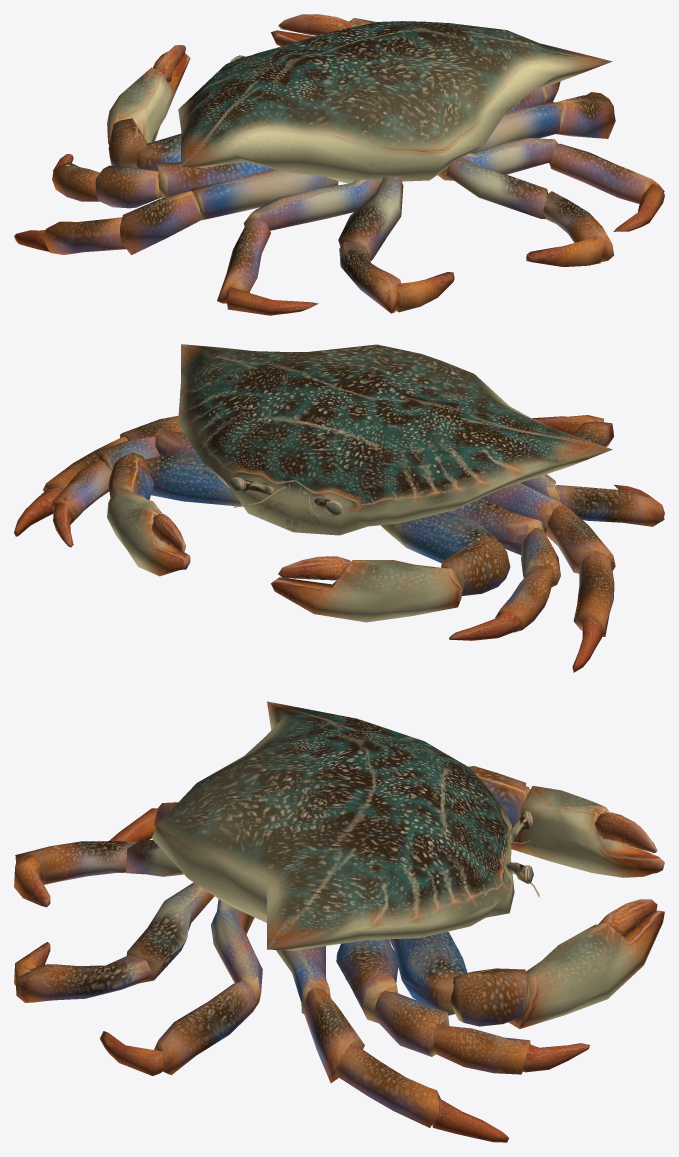
Rendered from crab.glb.
3 views of the same model, one above another, from view 1: azimuth 30°, elevation 25°; view 2: azimuth 150°, elevation 25°; view 3: azimuth 270°, elevation 25° (orthographic). The views are drawn at different scales.
Visible parts, largest first — view 1: reduced; view 2: reduced; view 3: reduced.
Boxes of the visible parts, bbox=[...] form: reduced: bbox=[14, 14, 664, 315]; reduced: bbox=[14, 344, 664, 672]; reduced: bbox=[14, 701, 664, 1142].
Bounding box in the file's own units: 1.43 × 0.4221 × 1.21.
1 material, 1 textured.
